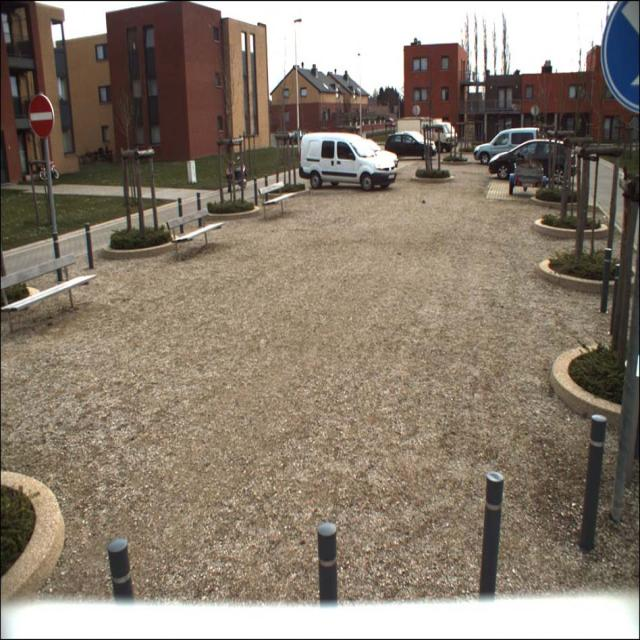girisyok: (29, 94, 54, 138)
